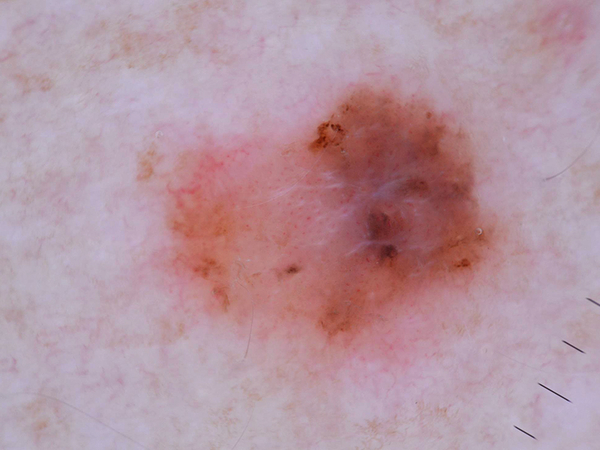Detected Lesion: (156, 89, 492, 358)
